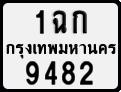letters: (79, 60, 94, 86), (72, 10, 88, 34), (53, 9, 67, 34), (44, 60, 58, 85), (61, 61, 75, 85), (26, 60, 39, 85), (35, 9, 45, 35)
province: (6, 43, 116, 59)
